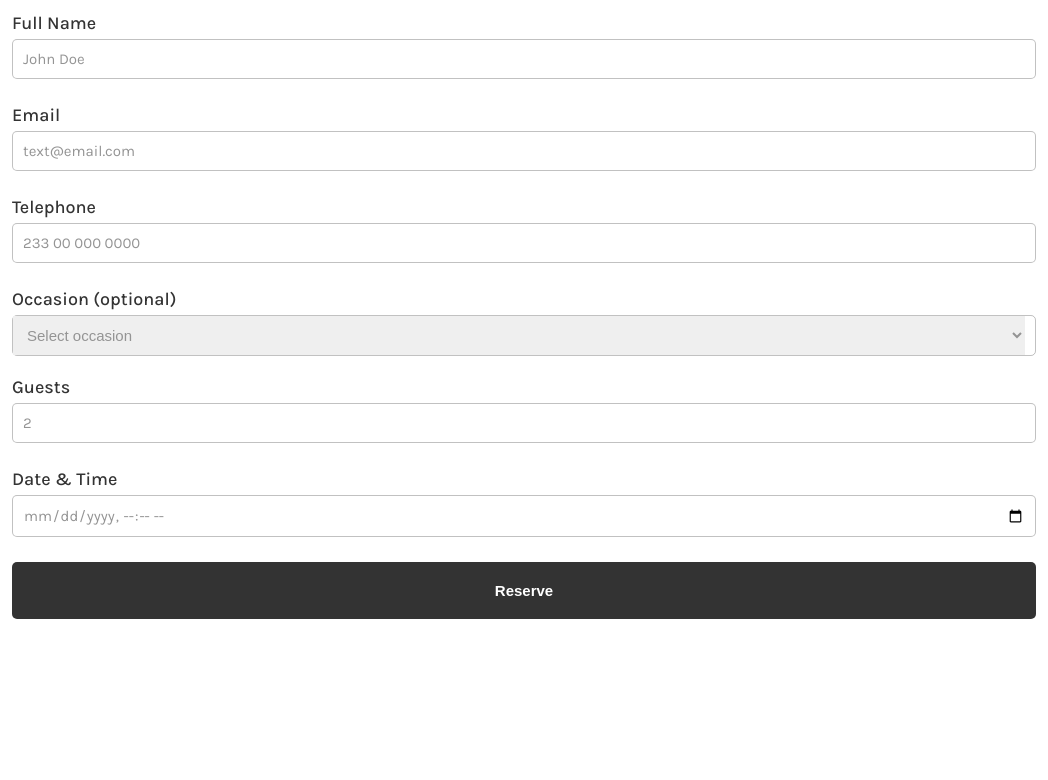
Test: Form Component › shows validation errors when required fields are not filled
The width and height of the screenshot is (1048, 780).
What coordinates should you click on to do the following:
click the button "Reserve"
I would click on:
 (524, 590)
Its box is [12,562,1036,619].
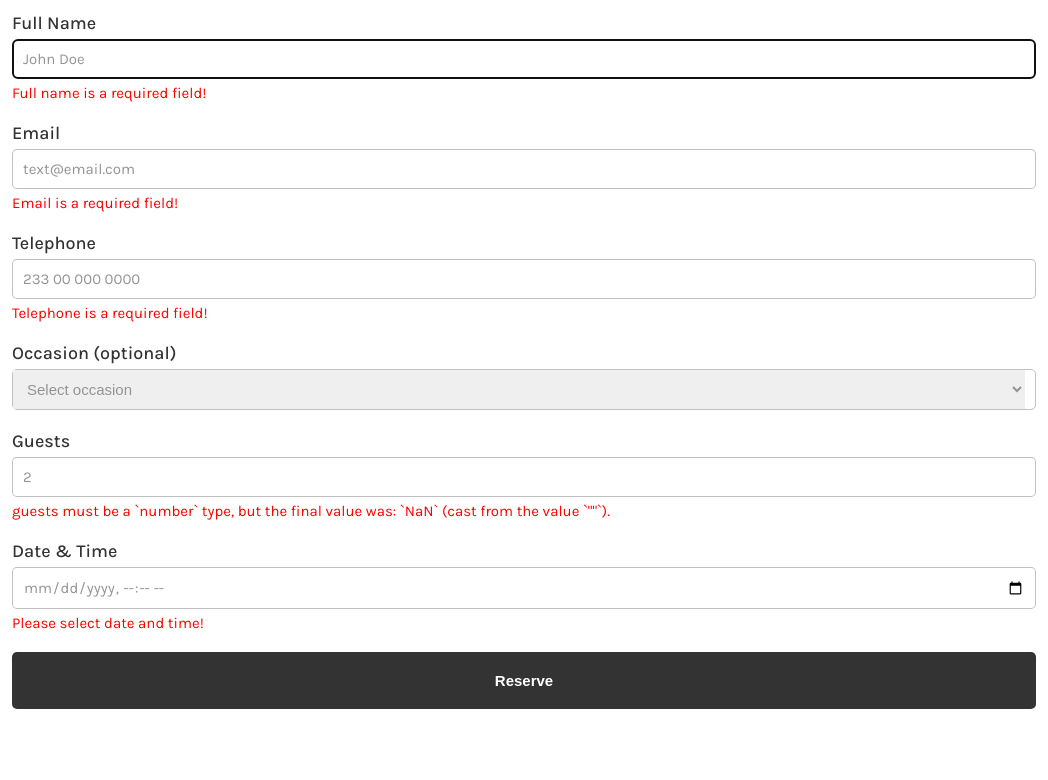
Expected: the text "Full name is a required field!" is shown, [12,84,206,102]
Expected: the text "Email is a required field!" is shown, [12,194,178,212]
Expected: the text "Telephone is a required field!" is shown, [12,304,208,322]
